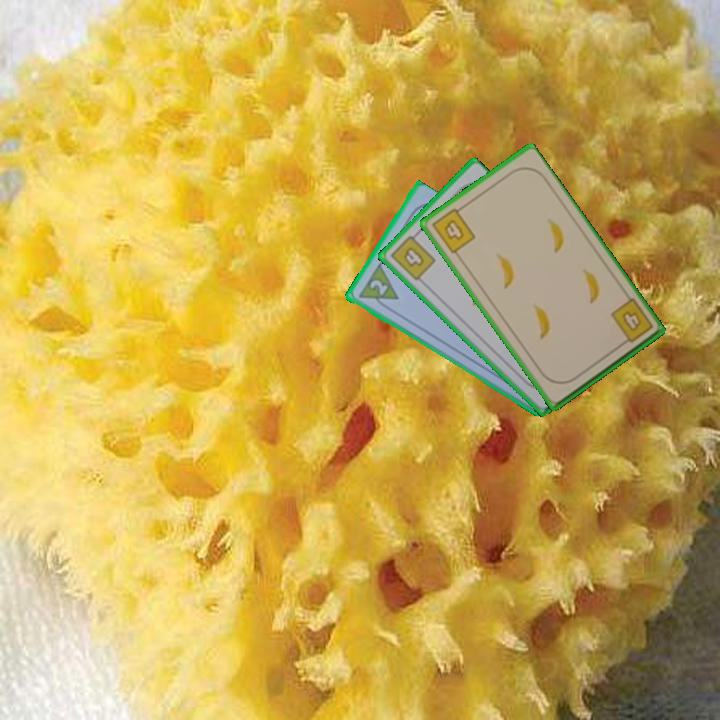2p: (365, 276, 390, 299)
4b: (387, 228, 439, 284), (428, 202, 478, 257), (606, 295, 656, 349)
